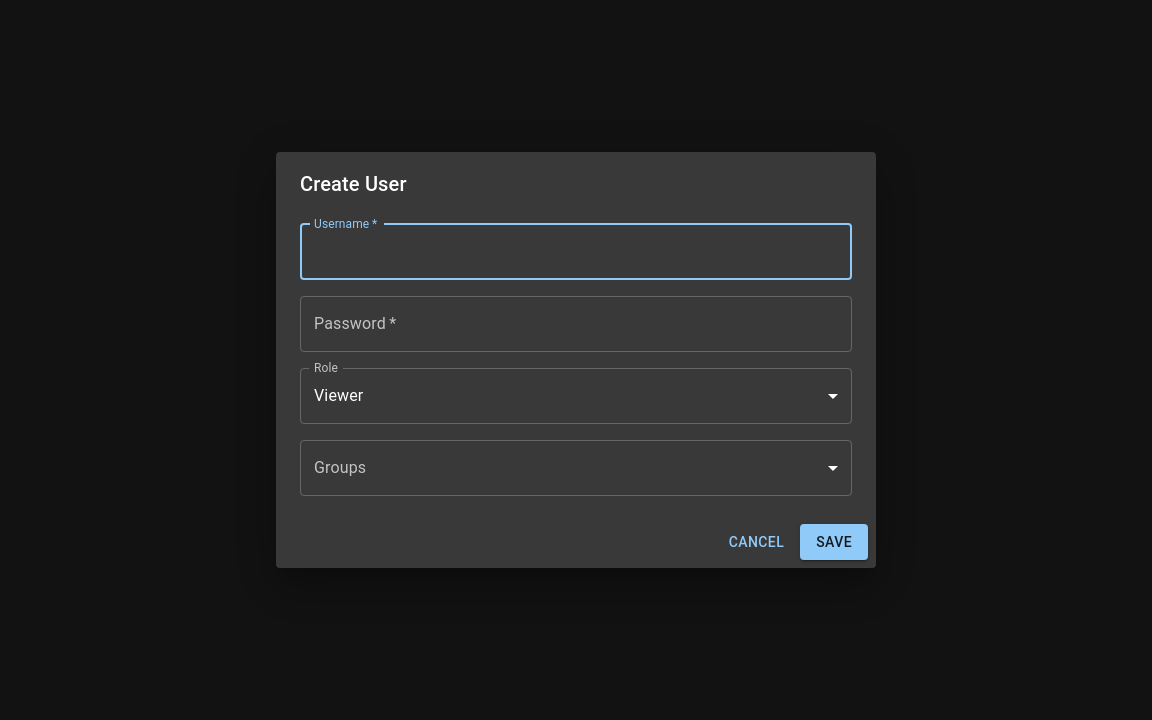
Test: UserDialog › Create mode › shows validation error when password is empty on create
Type "newuser" into the field labelled "Username *" at x=576, y=252, box [300,224,852,280]
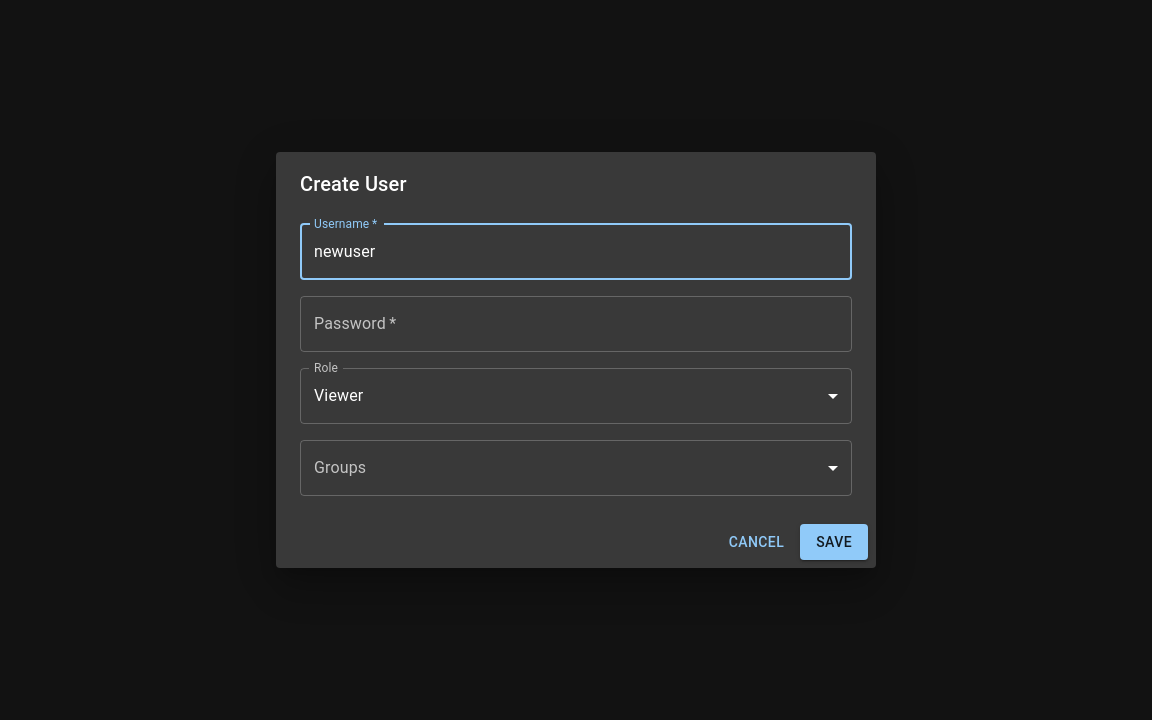
Click the button "Save" at x=834, y=542, box [800,524,868,560]
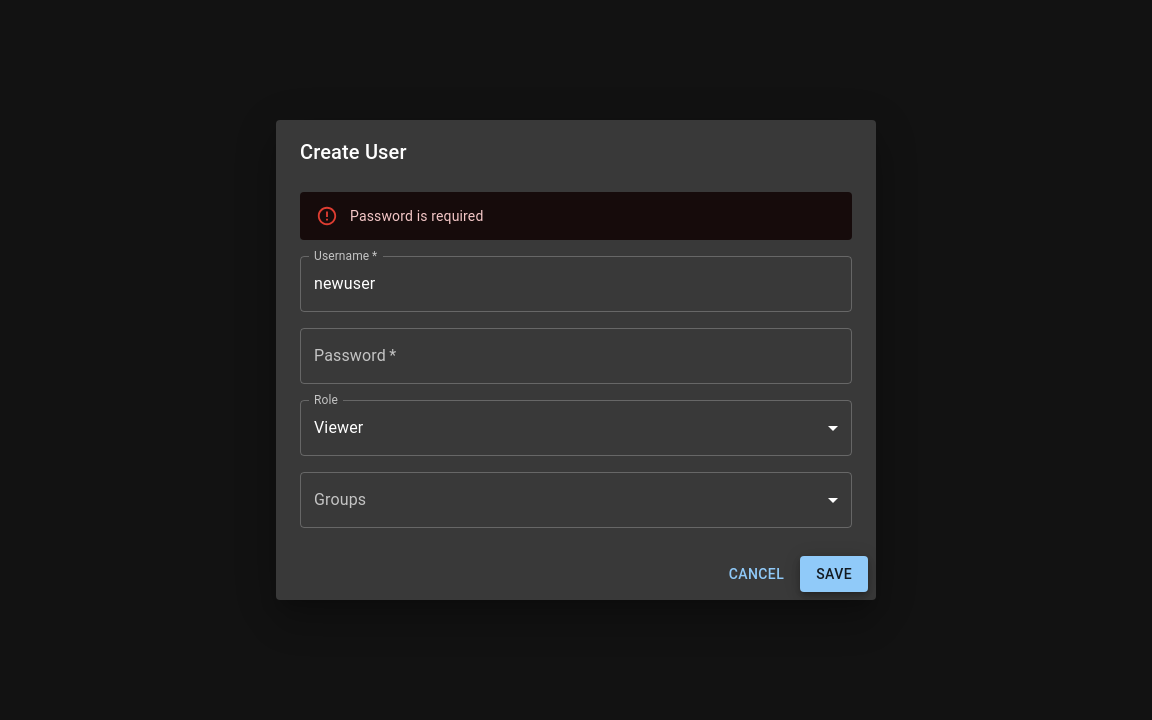
Now the text "Password is required" is shown, box [350,208,484,224]
